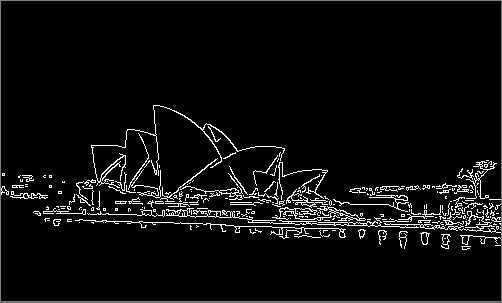opera house: (53, 101, 334, 217)
